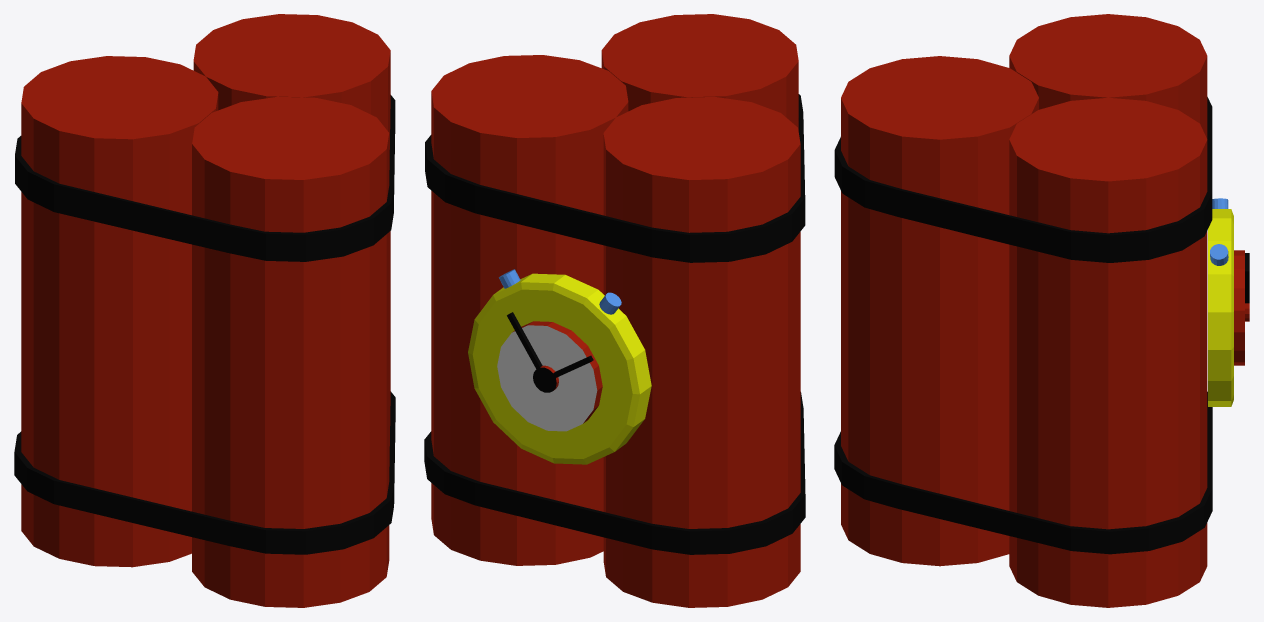
The model's file is dynamite 1.fbx.
3 renders of one model, left to right at view 1: azimuth 30°, elevation 25°; view 2: azimuth 150°, elevation 25°; view 3: azimuth 270°, elevation 25°, orthographic.
Parts seen in each view (by area): view 1: Cylinder.002; view 2: Cylinder.002, Cylinder.001; view 3: Cylinder.002.
Boxes of the visible parts, x1,y1,x2,y2 form: Cylinder.002: [14, 14, 395, 607]; Cylinder.002: [424, 14, 805, 607]; Cylinder.001: [499, 269, 621, 314]; Cylinder.002: [834, 14, 1249, 607].
Size of the model in its own units: 413 by 475 by 419.
